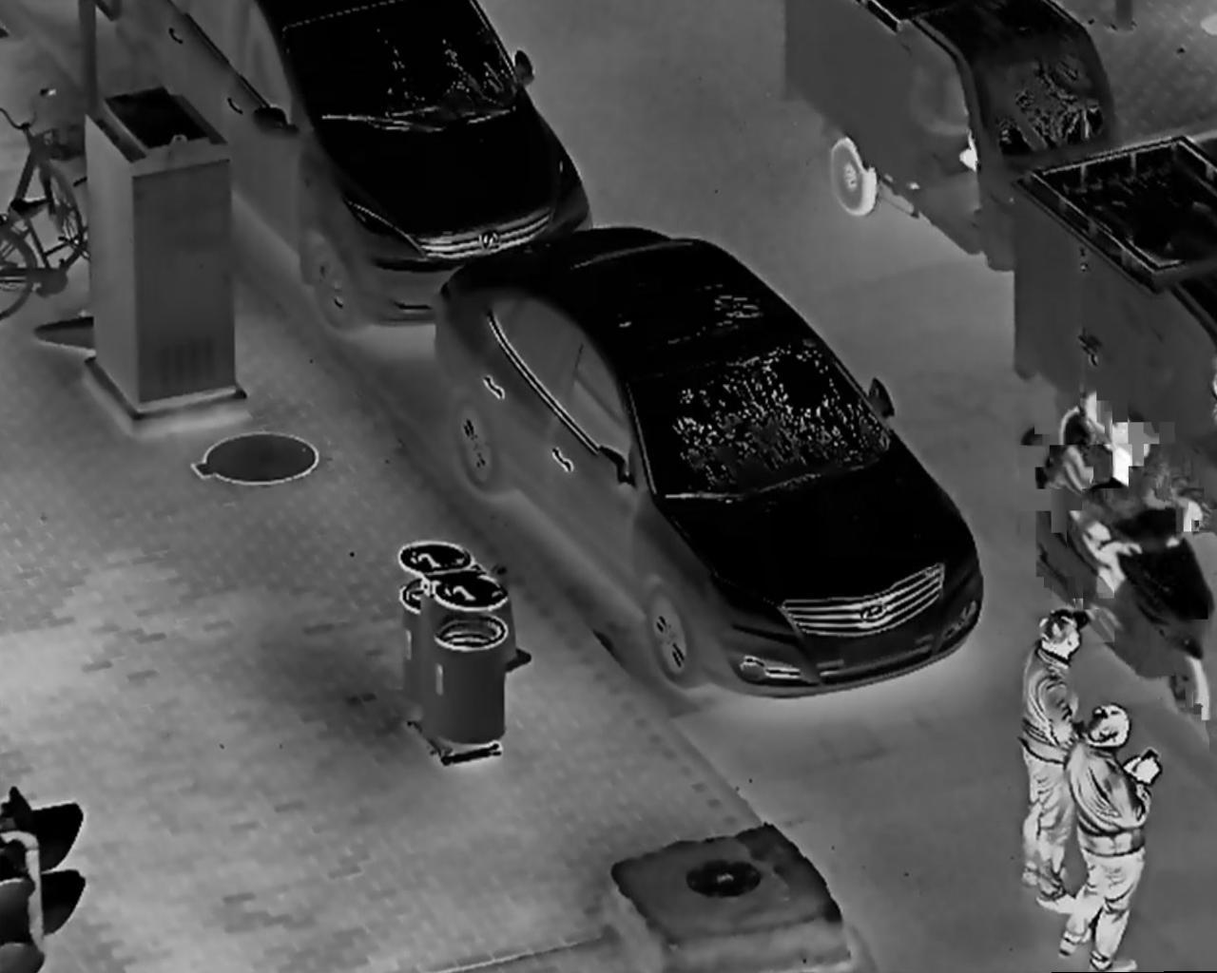person: (1065, 382, 1206, 600), (1051, 703, 1162, 973), (1017, 605, 1093, 911)
